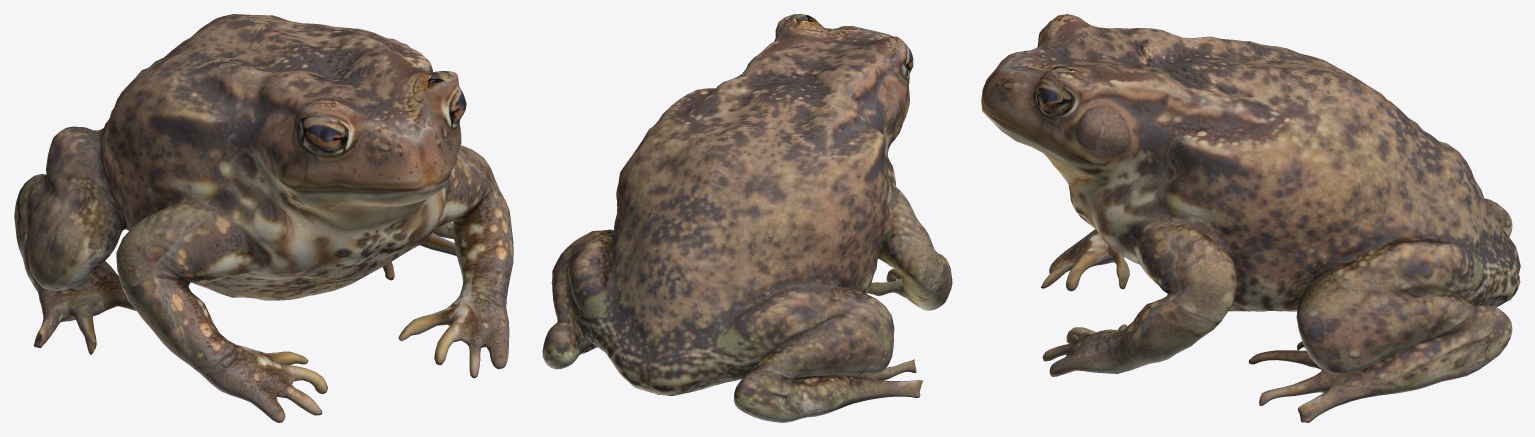
The model's file is giant-toad.glb.
The picture shows the model from 3 angles, left to right: view 1: azimuth 30°, elevation 25°; view 2: azimuth 150°, elevation 25°; view 3: azimuth 270°, elevation 25°; orthographic projection. The views are drawn at different scales.
Size of the model in its own units: 1.75 by 1.16 by 2.
1 material, 1 textured.
